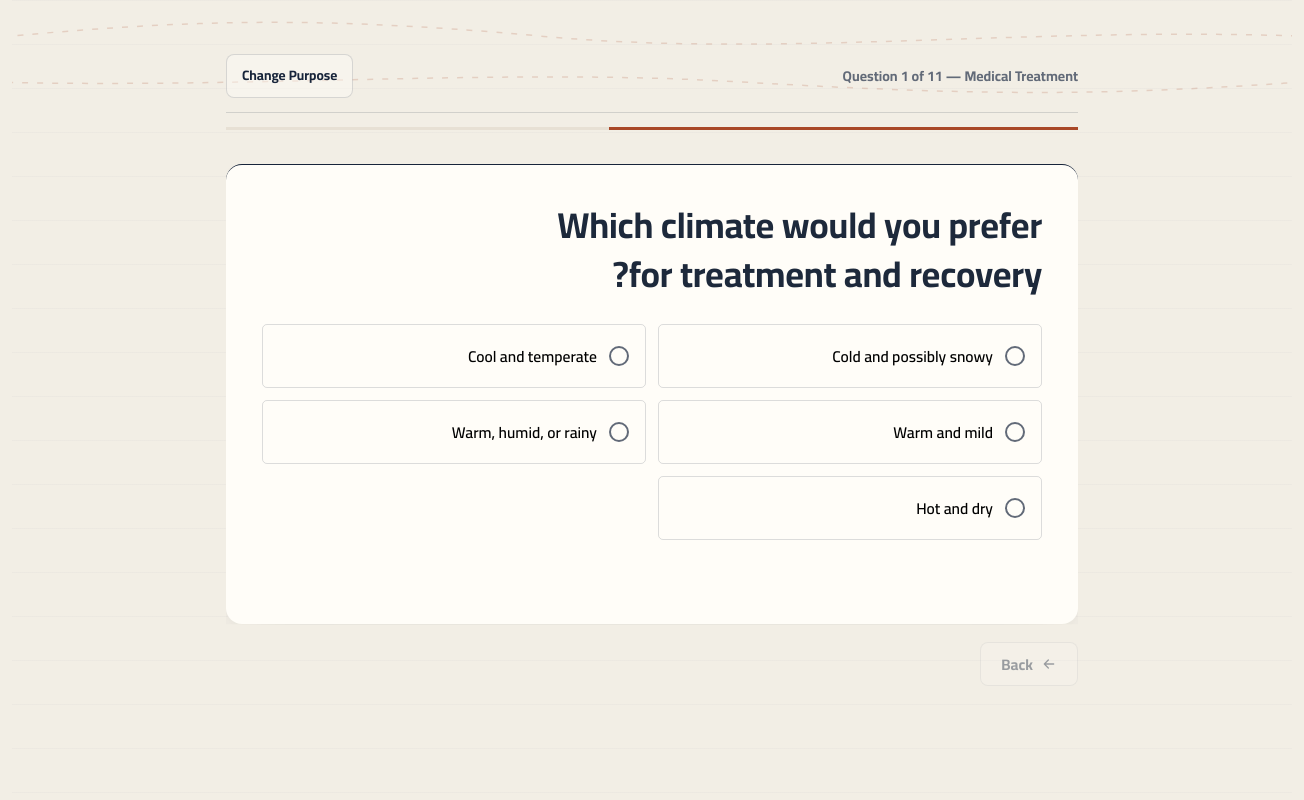
it: geolocation/quiz race — the "no more questions" decision waits for a pending request › denied: proceeds straight to results without waiting
Click the radio button labelled "Cold and possibly snowy": coordinates (850, 356) left=658, top=324, right=1042, bottom=388
Wait 150 ms
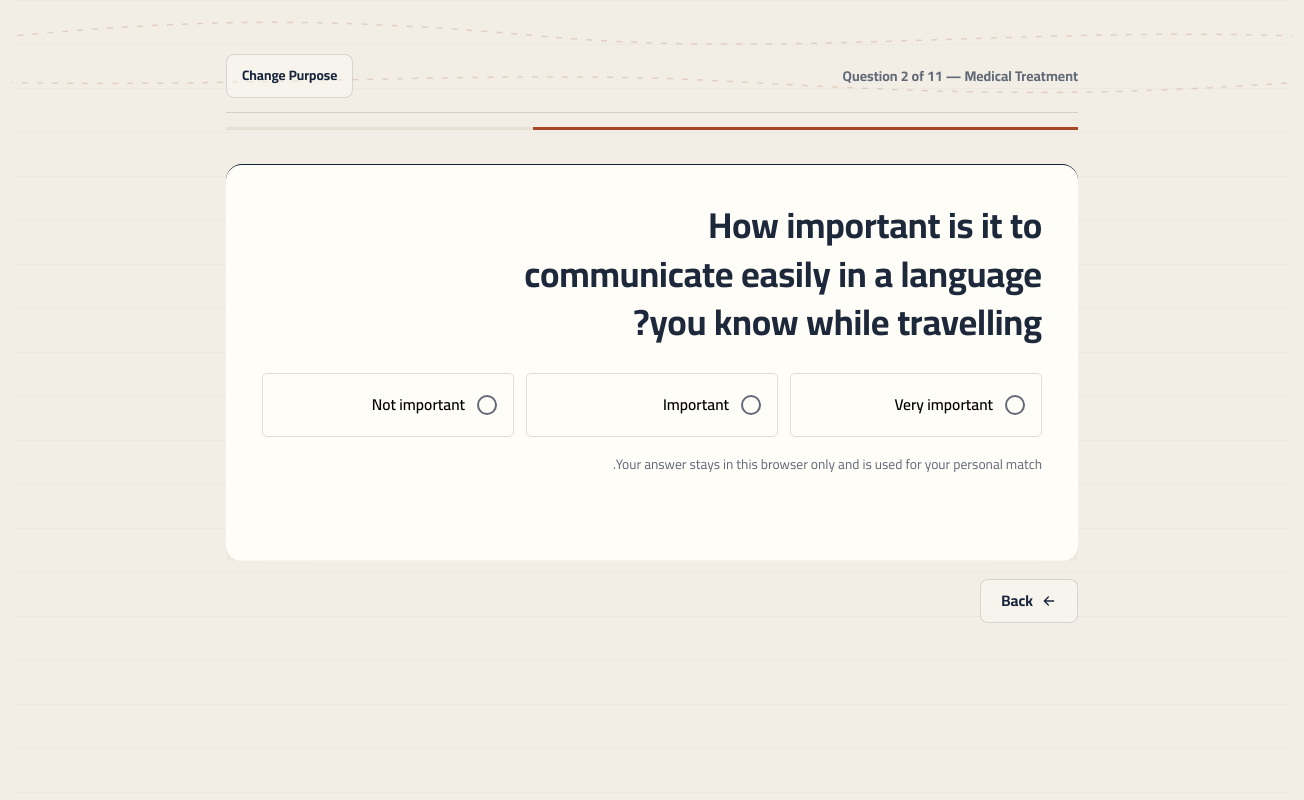
Expected: the heading "communicate easily in a language you know" is shown, left=524, top=191, right=1042, bottom=356
Click the radio button labelled "Not important": coordinates (388, 405) left=262, top=373, right=514, bottom=437
Wait 150 ms
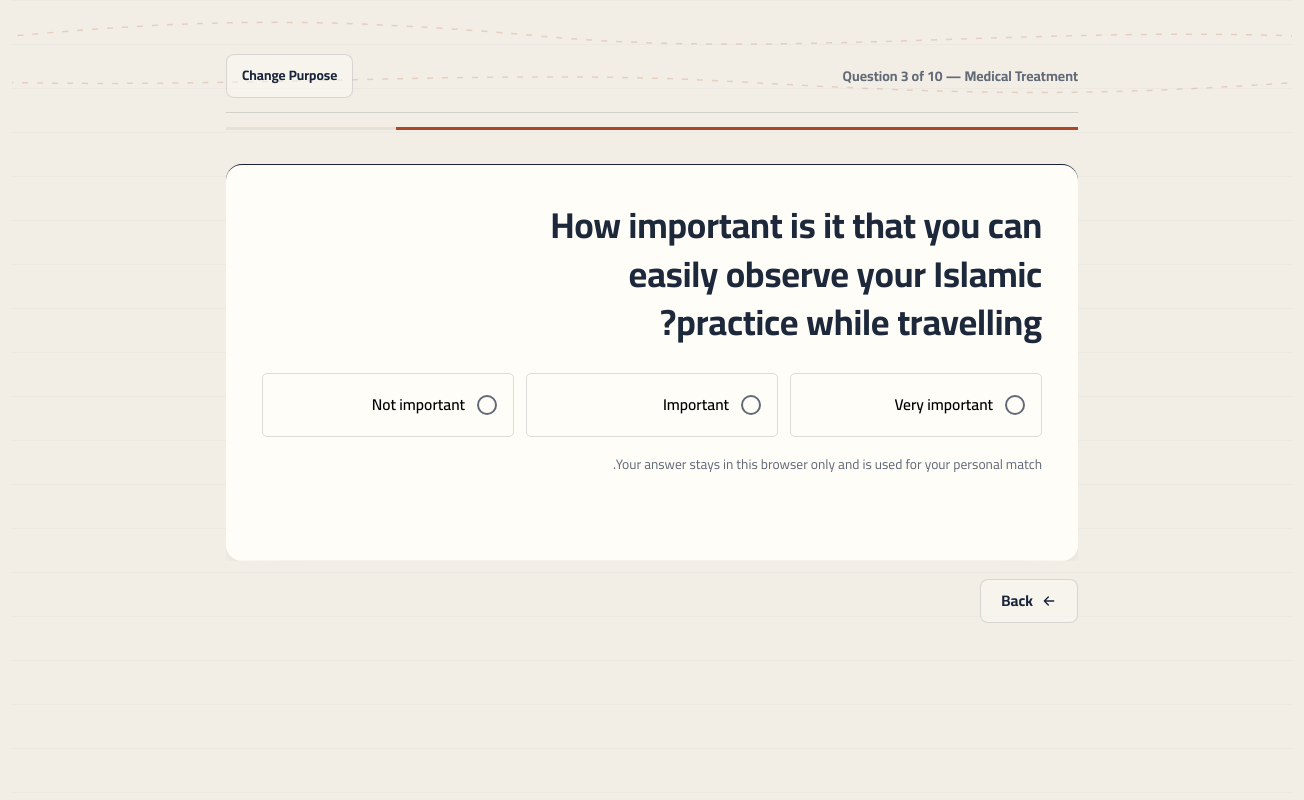
Click the radio button labelled "Not important": coordinates (388, 405) left=262, top=373, right=514, bottom=437
Wait 150 ms
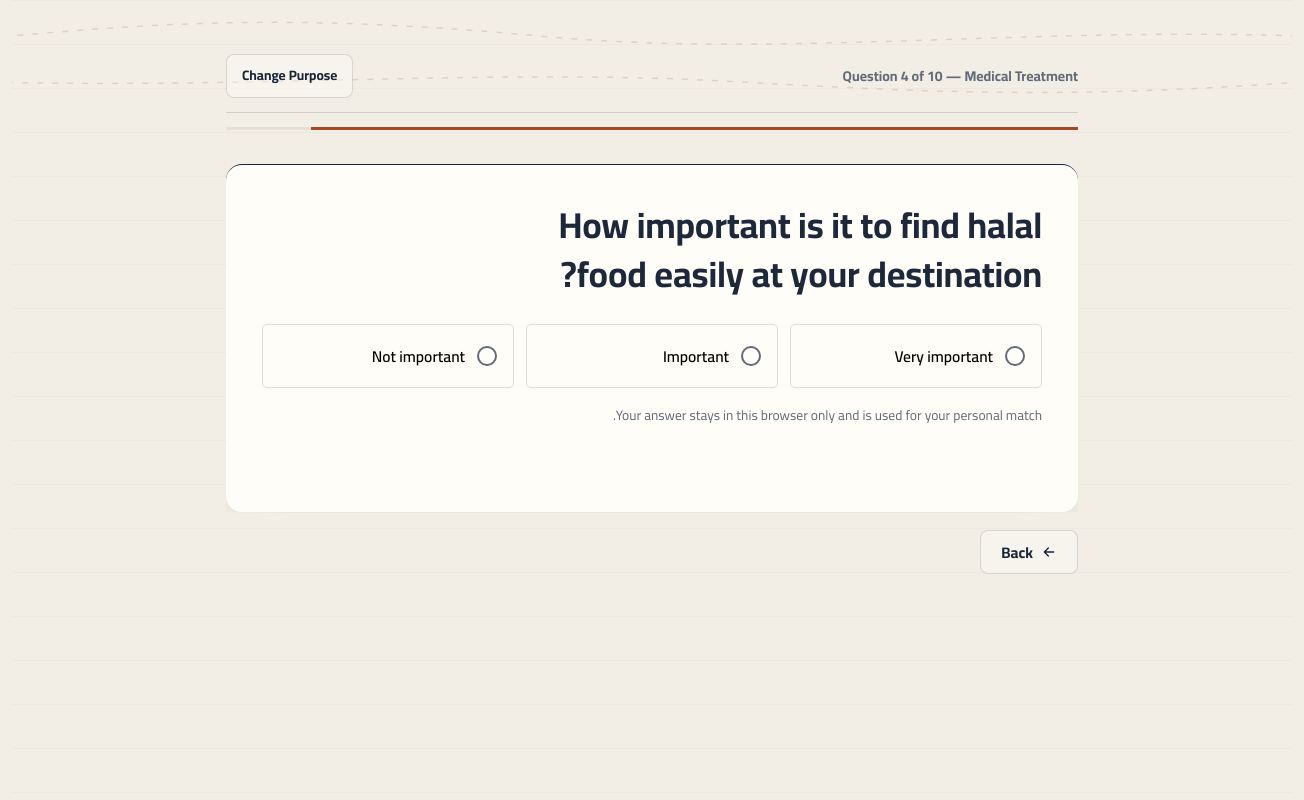
Click the radio button labelled "Not important": coordinates (388, 356) left=262, top=324, right=514, bottom=388
Wait 150 ms
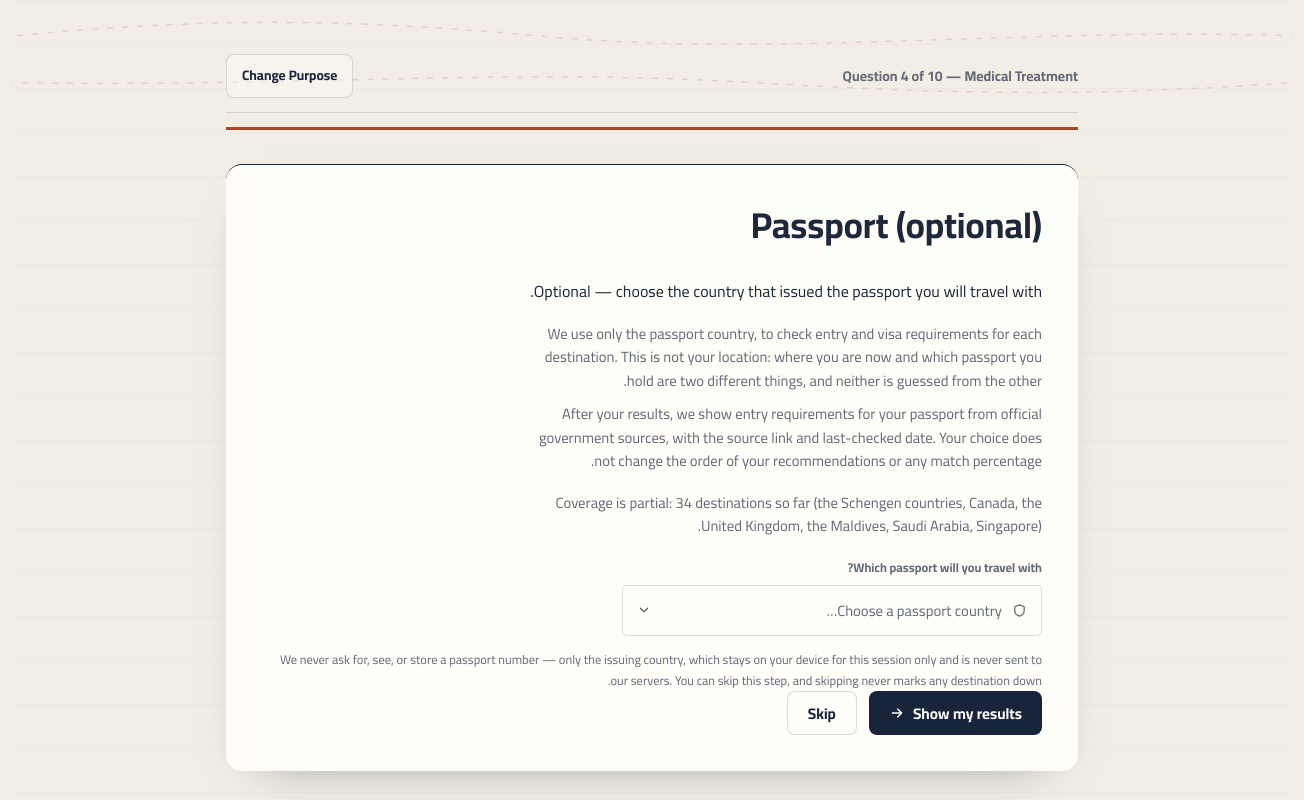
Expected: the element that starts with "Passport (optional)" is shown, left=226, top=164, right=1078, bottom=771
